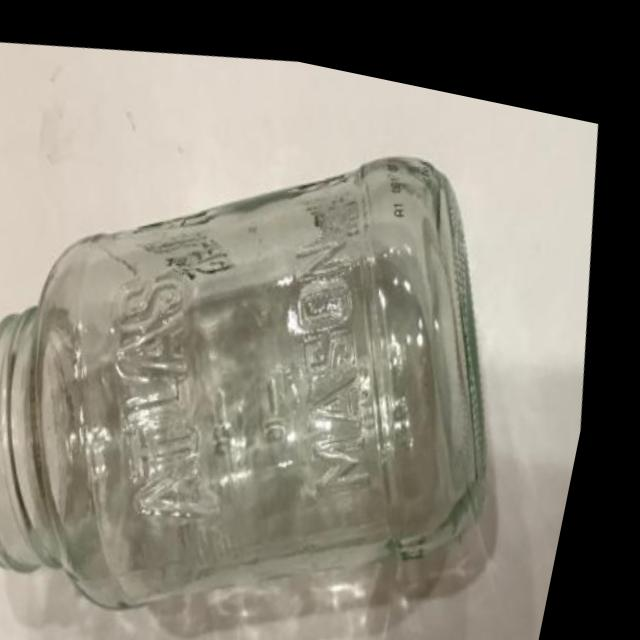glass: (0, 38, 603, 640)
